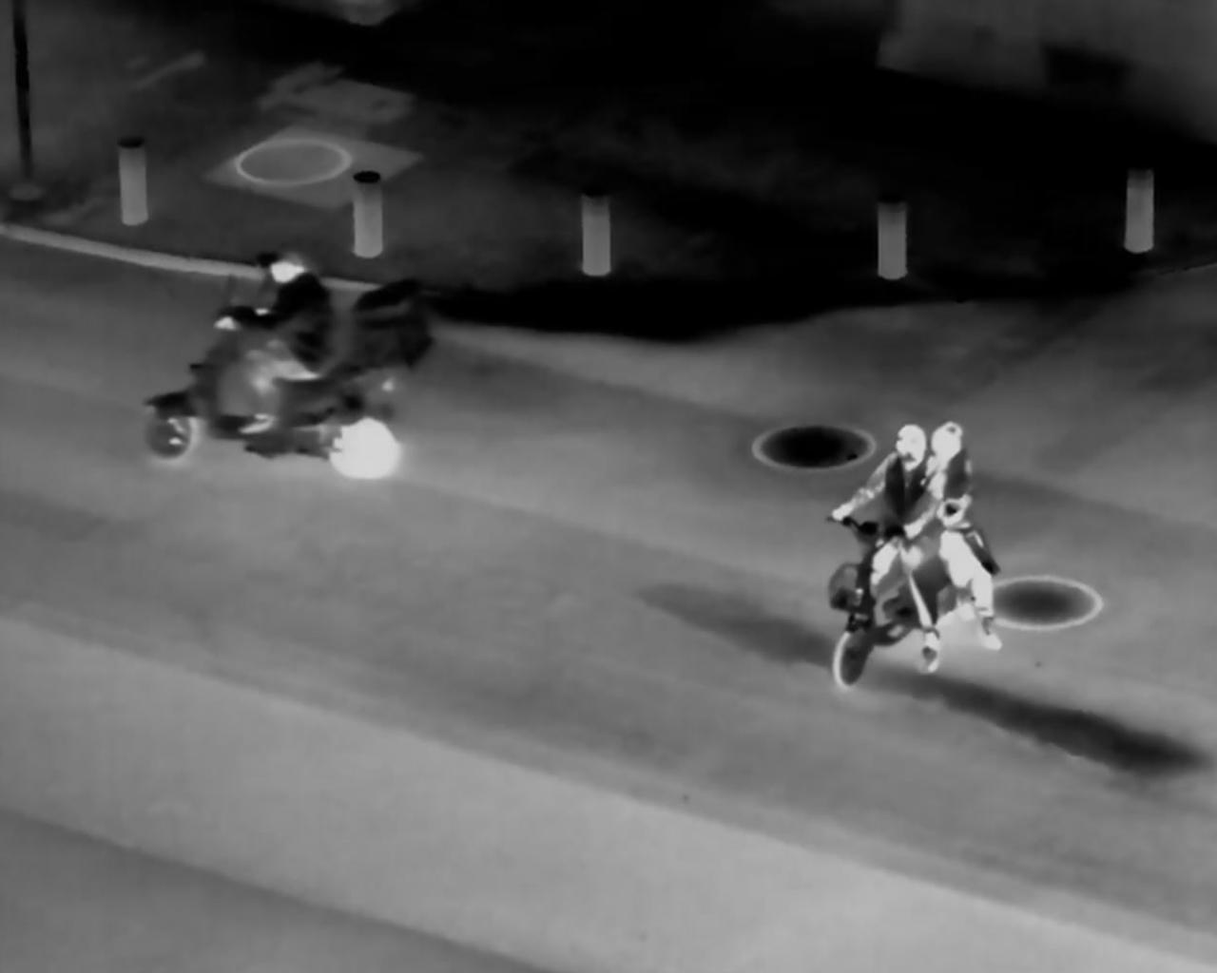person: (844, 410, 947, 679), (215, 242, 334, 453), (929, 425, 1010, 661)
